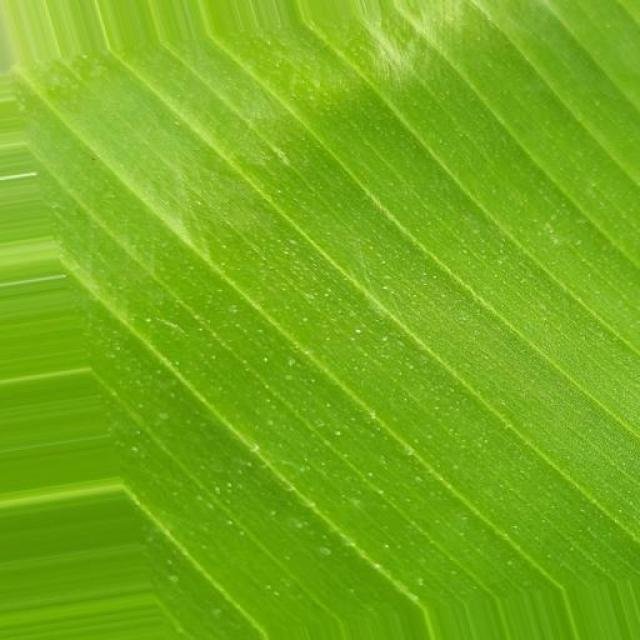Black_leaf_spot: (7, 0, 640, 555)
